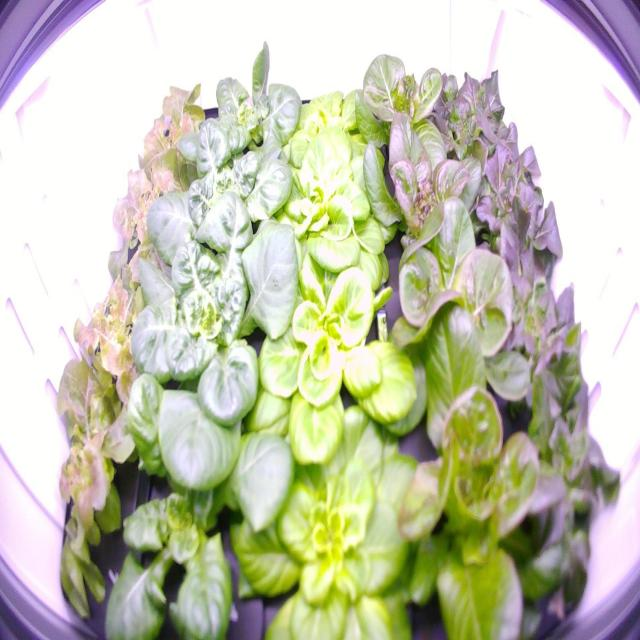young: (84, 366, 301, 638), (113, 187, 310, 486), (215, 394, 440, 638), (363, 380, 558, 639), (236, 241, 432, 478), (378, 196, 535, 455), (254, 125, 406, 296), (355, 101, 500, 274), (143, 111, 314, 252), (176, 33, 312, 162), (346, 44, 464, 178), (271, 70, 391, 182)
